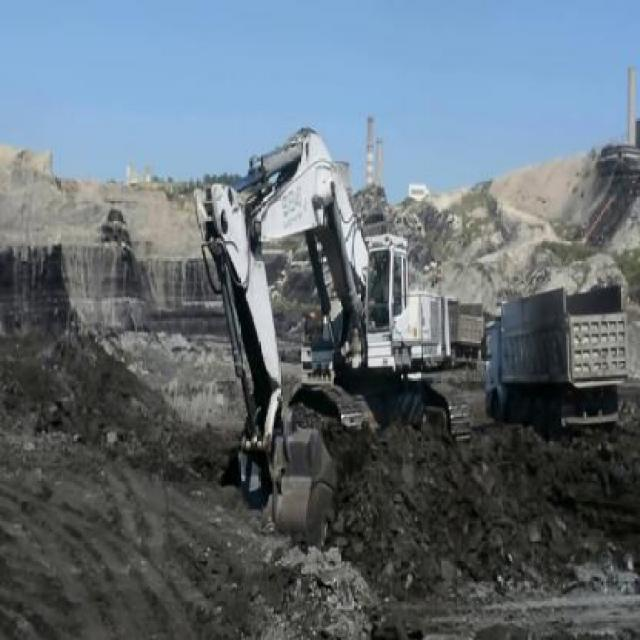Dump Truck: (478, 280, 627, 435)
Excavator: (193, 121, 470, 570)
